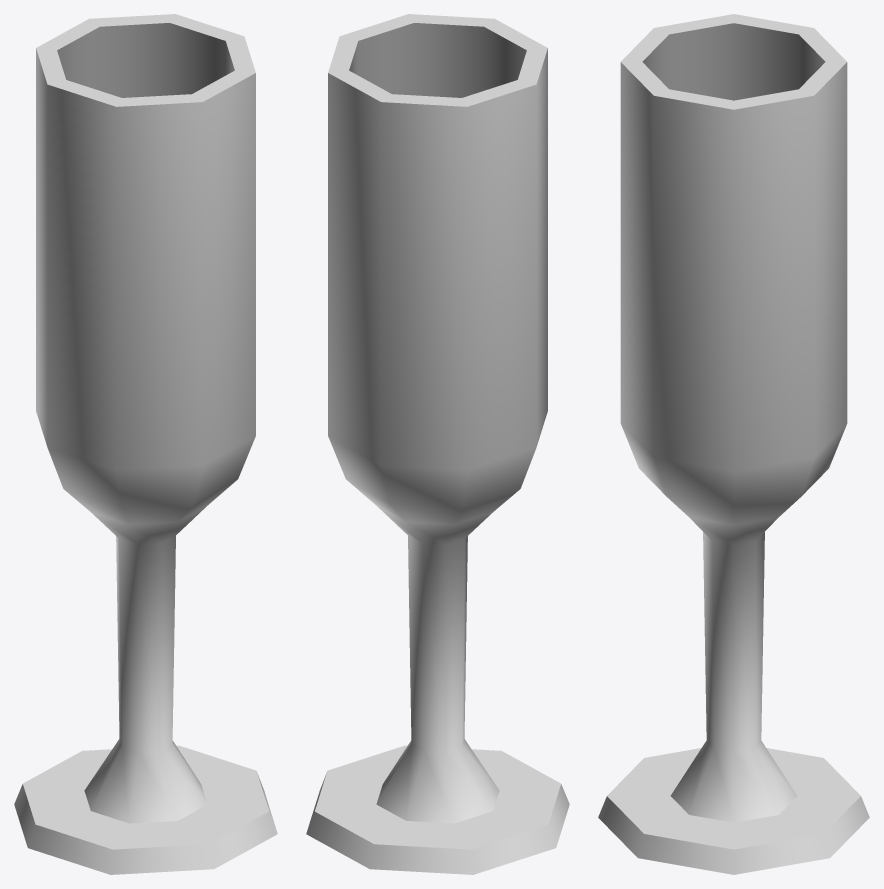
Rendered from Prop_TallGlass.fbx.
The picture shows the model from 3 angles, left to right: view 1: azimuth 30°, elevation 25°; view 2: azimuth 150°, elevation 25°; view 3: azimuth 270°, elevation 25°; orthographic projection.
Parts seen in each view (by area): view 1: Prop_TallGlass; view 2: Prop_TallGlass; view 3: Prop_TallGlass.
Boxes of the visible parts, <box> form: Prop_TallGlass: <box>14,14,277,874</box>; Prop_TallGlass: <box>306,14,569,874</box>; Prop_TallGlass: <box>598,14,869,874</box>.
Size of the model in its own units: 14.09 by 43.23 by 14.09.
